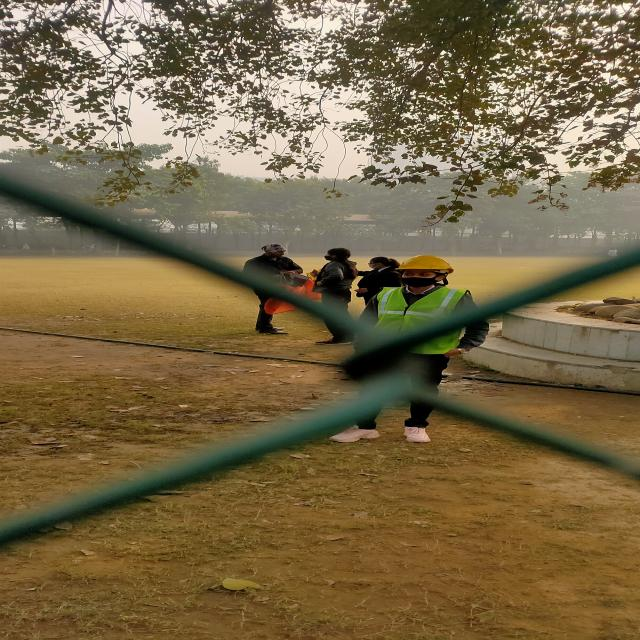safe: (380, 254, 470, 448)
unsafe: (240, 245, 302, 335), (315, 249, 357, 342), (370, 254, 400, 286)
